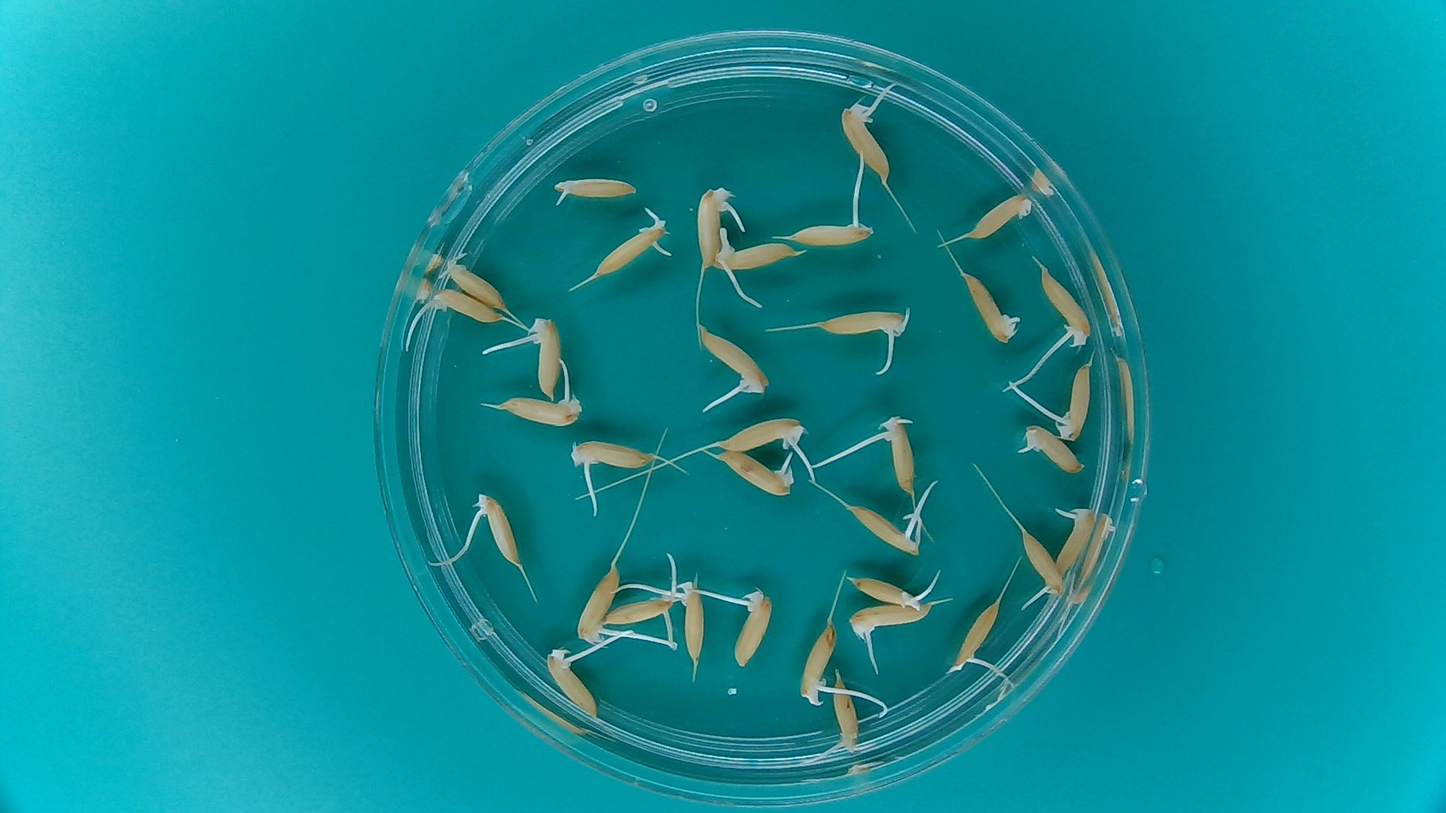no: (961, 269, 1023, 346), (963, 189, 1036, 241)
yes: (697, 324, 771, 394), (1036, 263, 1093, 351), (592, 211, 668, 274), (836, 101, 890, 183), (847, 503, 924, 558), (713, 449, 798, 498), (544, 646, 600, 720), (948, 598, 1003, 673), (715, 413, 809, 456), (845, 601, 935, 644), (474, 489, 524, 566), (444, 254, 511, 310), (568, 435, 657, 477), (1017, 526, 1066, 601), (795, 621, 837, 707), (498, 387, 586, 428), (816, 304, 908, 343), (1017, 424, 1086, 475), (575, 562, 619, 640), (1054, 359, 1095, 442), (732, 586, 774, 666), (545, 170, 638, 206), (423, 285, 506, 325), (831, 672, 870, 755), (883, 410, 920, 496), (844, 573, 929, 609), (787, 216, 873, 250), (603, 589, 681, 626), (1055, 502, 1096, 571), (694, 185, 727, 268), (532, 312, 563, 397), (679, 576, 709, 662), (719, 236, 796, 269)
